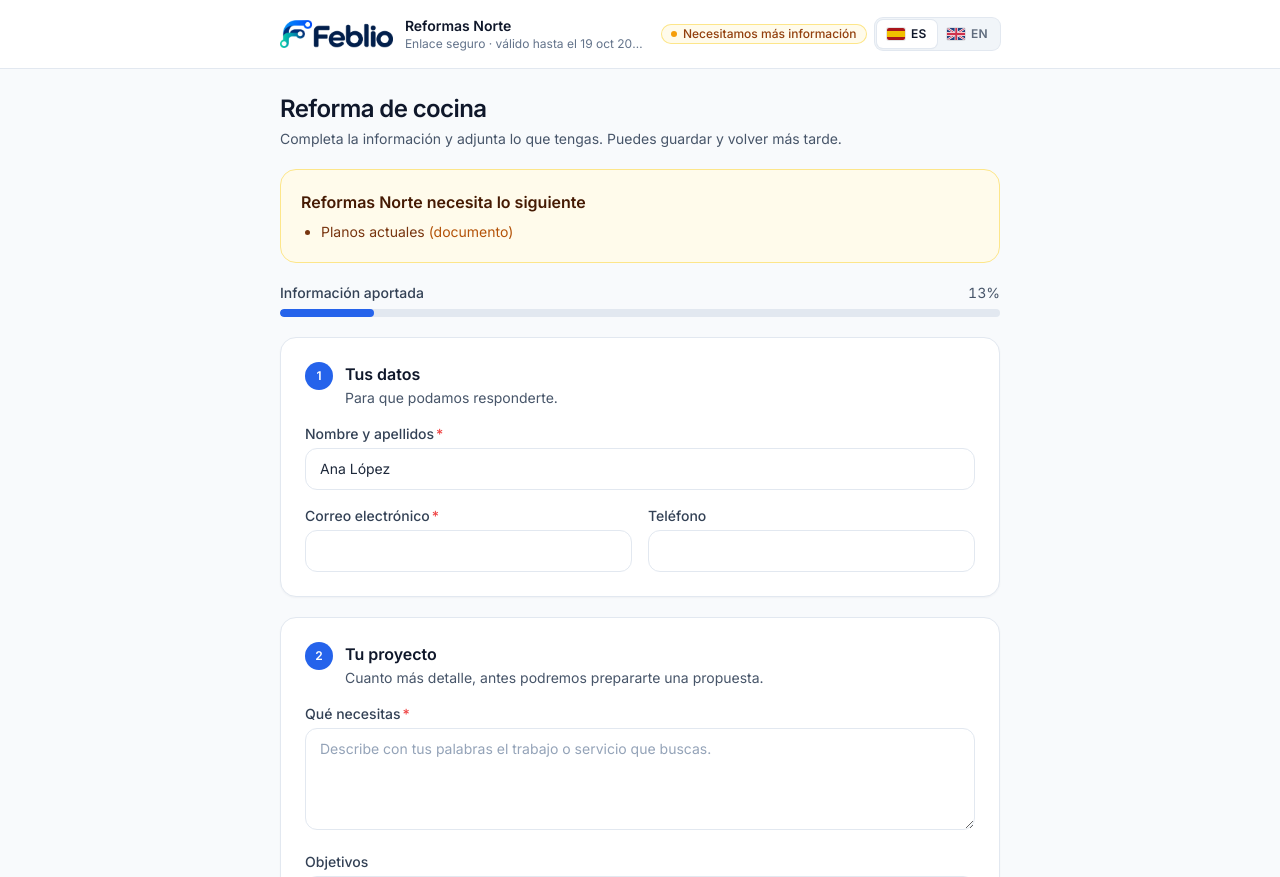
Test: <SolicitudCliente /> · idioma del enlace público › el selector de idioma cambia la página sin recargar y no traduce nombres ni mensajes
Expected: the heading "Reformas Norte necesita lo siguiente" is shown, [301,192,586,212]
Click the button with aria-label "English": (967, 34) [937,20,998,48]
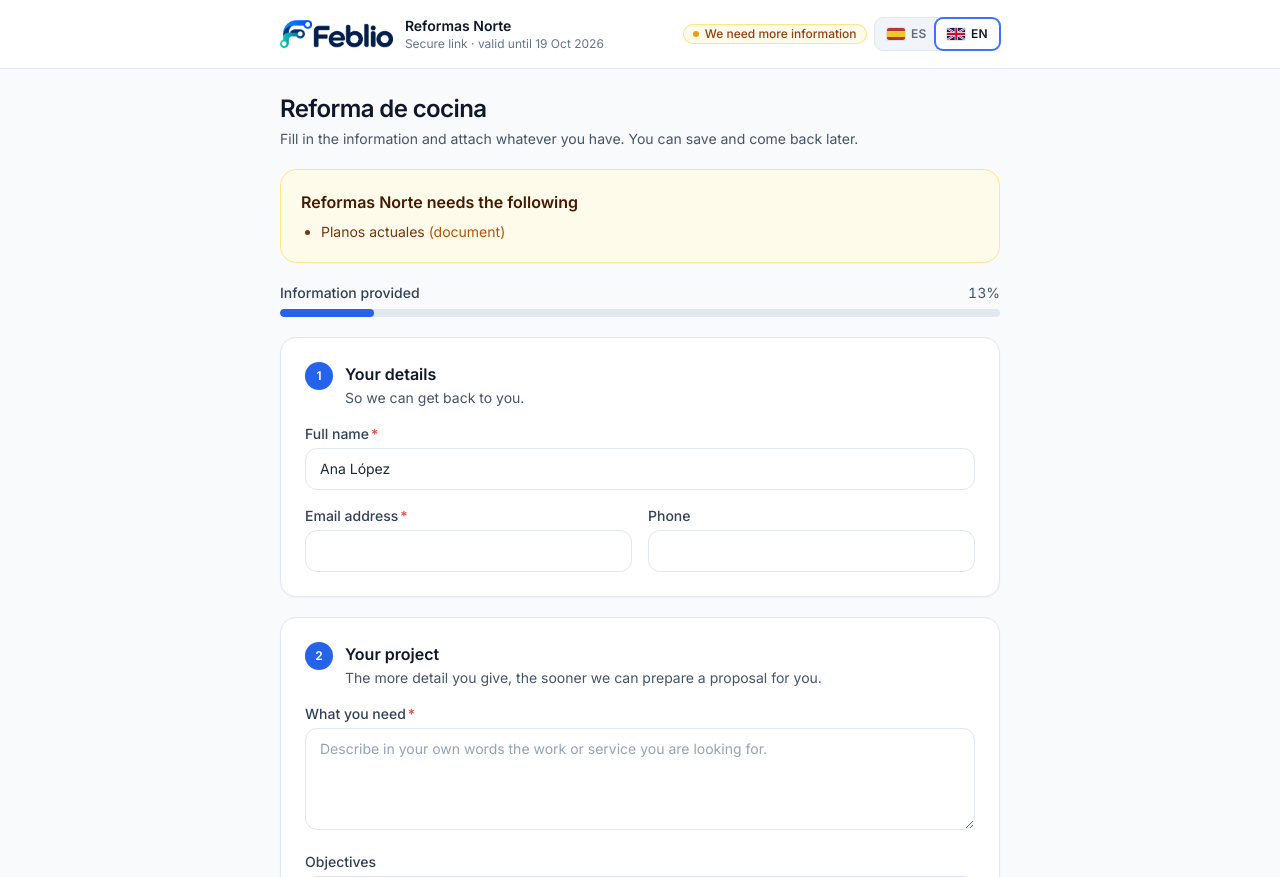
Expected: the list item "Planos actuales (document)" is shown, [321,223,505,240]
Expected: the heading "Reformas Norte needs the following" is shown, [301,192,578,212]
Expected: the text "We need more information" is shown, [683,24,867,44]
